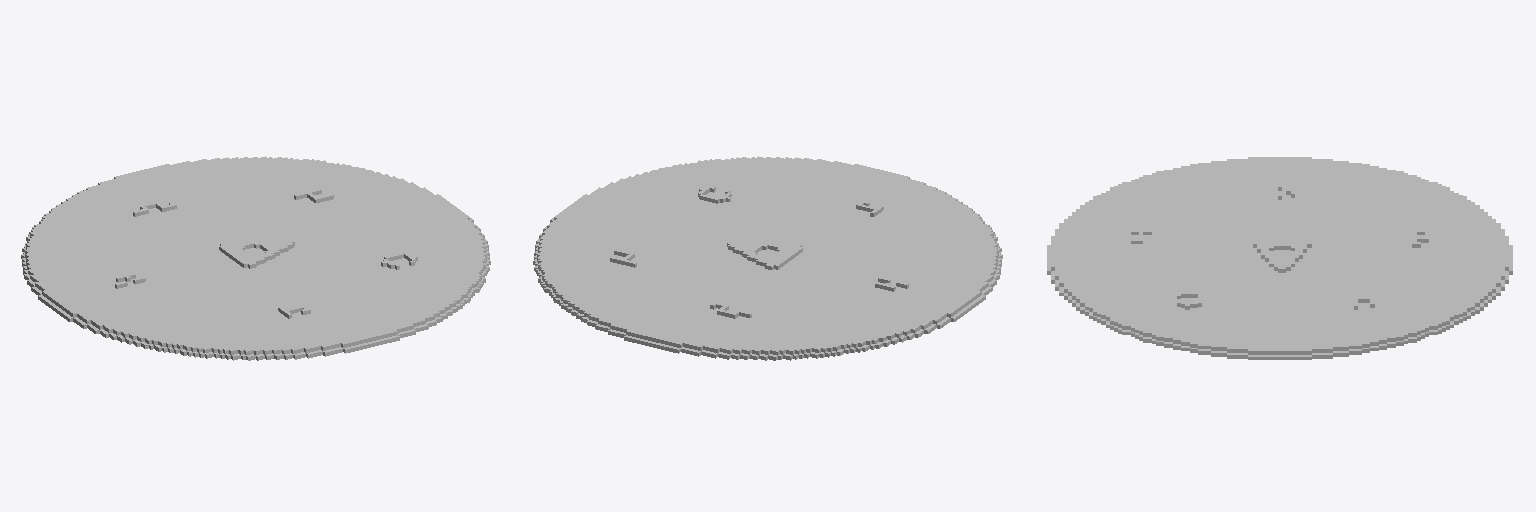
Rendered from SatanRitual.obj.
3 renders of one model, left to right at view 1: azimuth 30°, elevation 25°; view 2: azimuth 150°, elevation 25°; view 3: azimuth 270°, elevation 25°, orthographic.
Visible parts, largest first — view 1: default; view 2: default; view 3: default.
Part boxes in pixels (bbox=[...]): default: bbox=[21, 156, 490, 360]; default: bbox=[533, 156, 1002, 360]; default: bbox=[1047, 157, 1512, 359].
Size of the model in its own units: 111 by 3 by 111.